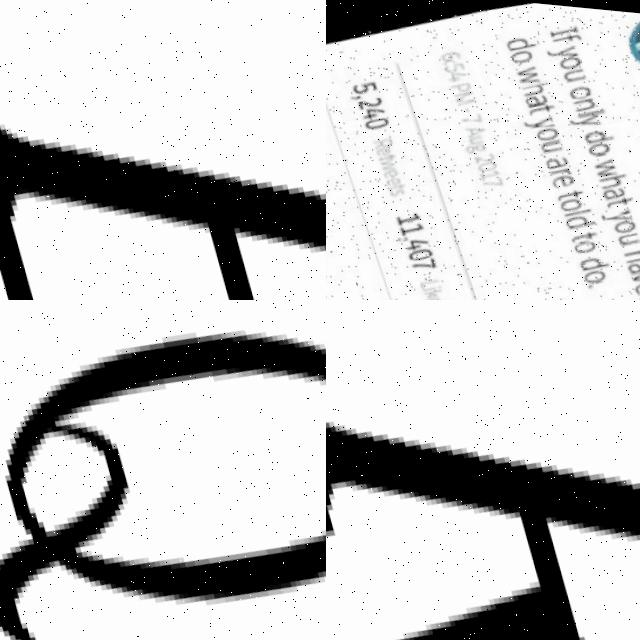0: (358, 110, 390, 132), (403, 241, 432, 262), (473, 154, 497, 170)
1: (393, 215, 426, 237), (392, 205, 423, 227), (475, 162, 500, 178)
2: (354, 91, 383, 111), (469, 146, 494, 162)
4: (399, 230, 431, 251), (357, 100, 386, 120), (443, 64, 468, 81)
5: (350, 76, 377, 94), (440, 56, 465, 72)
6: (437, 45, 461, 61)
7: (405, 251, 437, 272), (457, 106, 481, 123), (478, 170, 502, 186)
E: (0, 127, 326, 300)
Q: (0, 300, 326, 640)
R: (326, 300, 640, 640)
